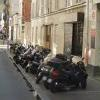Motorcycle: (18, 43, 93, 95)
